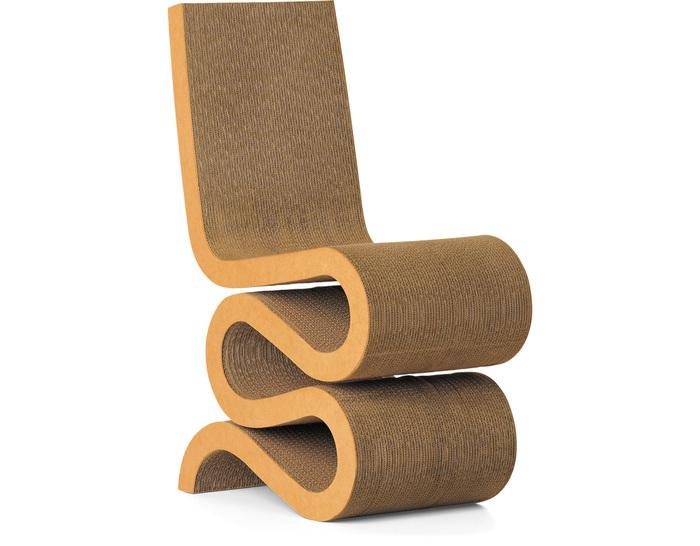chair: (138, 6, 587, 524)
